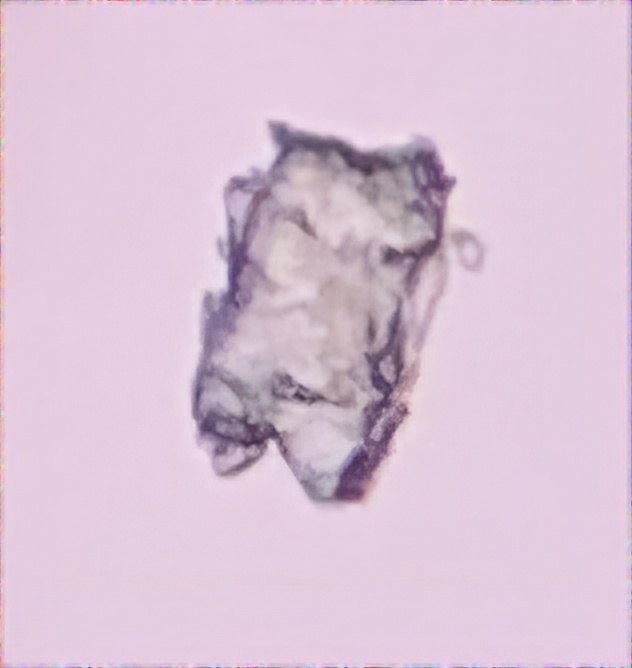microplastic: (184, 112, 485, 513)
